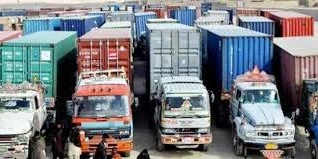truck: (199, 23, 295, 157), (0, 30, 77, 157), (68, 28, 134, 158), (147, 23, 211, 150)
